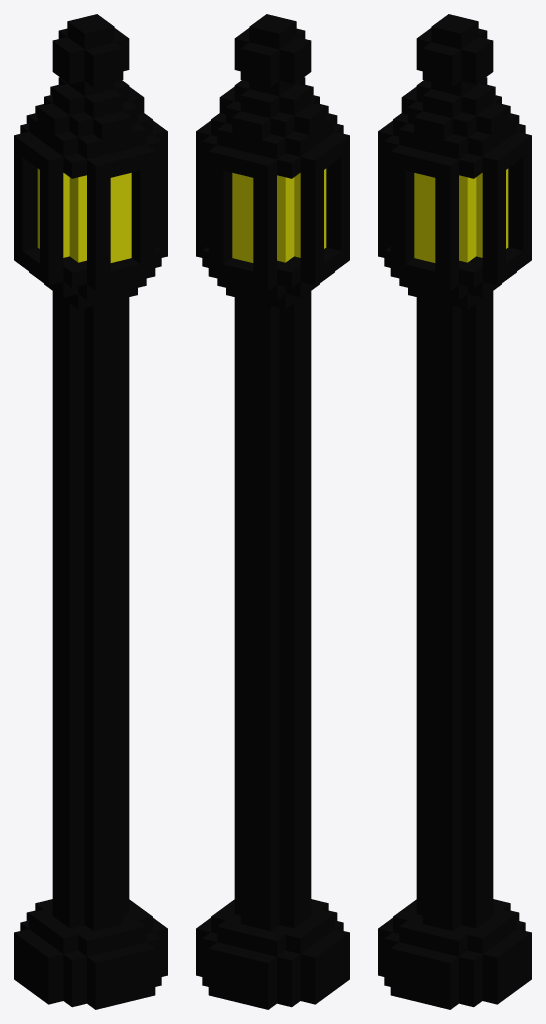
File: LampPost2.fbx
3 views of the same model, side by side, from view 1: azimuth 30°, elevation 25°; view 2: azimuth 150°, elevation 25°; view 3: azimuth 330°, elevation 25° (orthographic).
Visible parts, largest first — view 1: Lamppost2; view 2: Lamppost2; view 3: Lamppost2.
Part boxes in pixels (left/top/right/bottom): Lamppost2: left=14, top=14, right=167, bottom=1009; Lamppost2: left=196, top=14, right=349, bottom=1009; Lamppost2: left=378, top=14, right=531, bottom=1009.
Bounding box in the file's own units: 80 × 610 × 80.
